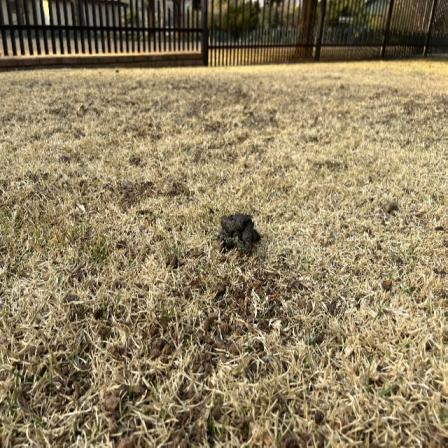dog-poop: (220, 200, 269, 253)
